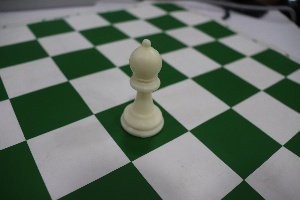white_bishop: (116, 25, 170, 146)
